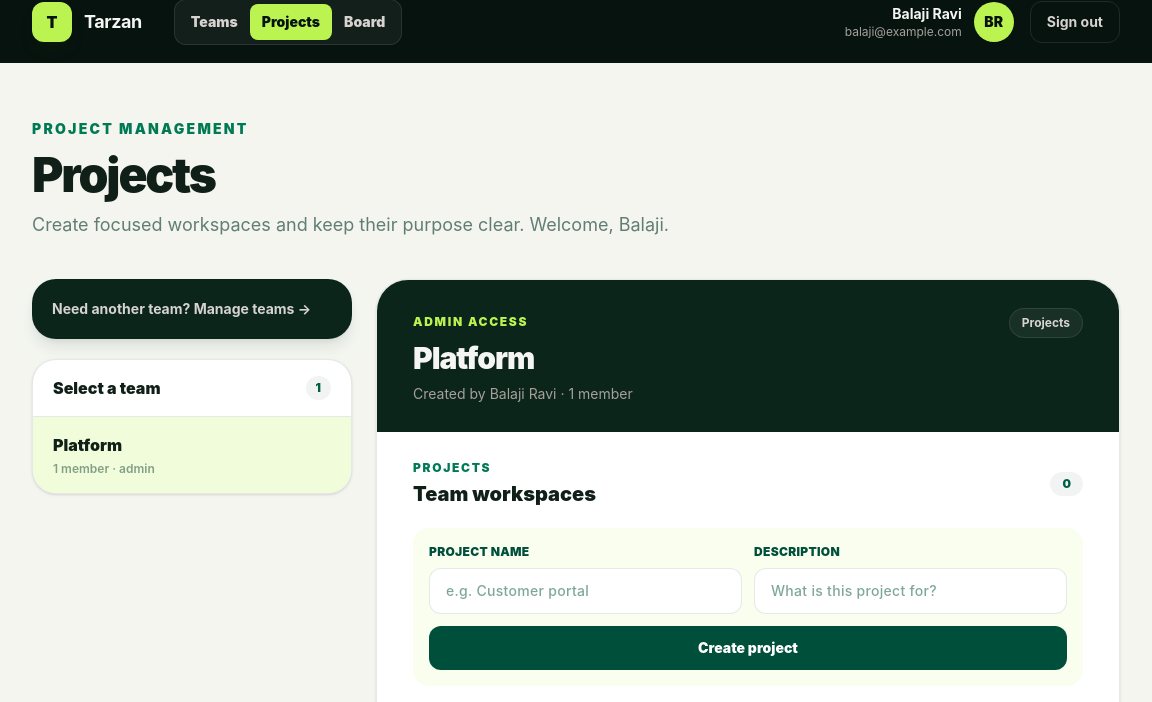
Scenario: authentication flow › creates a project inside an administered team
In the field labelled "Project name": (586, 591) [429, 568, 742, 614], type "Customer portal"
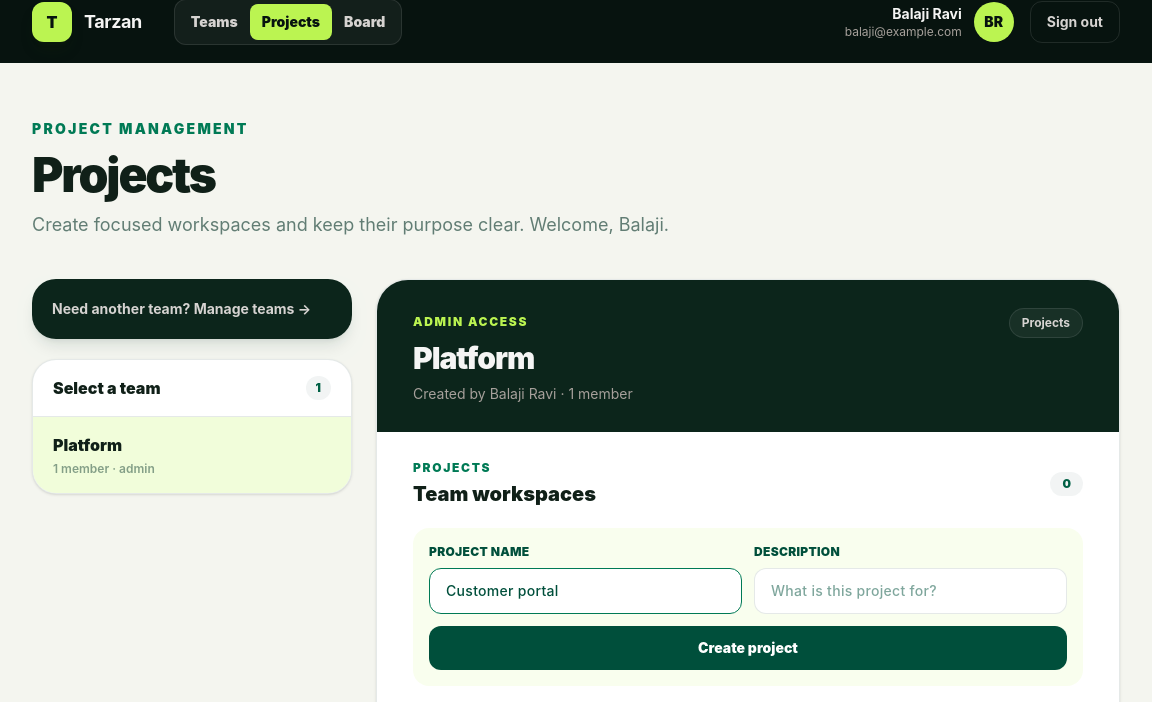
In the field labelled "Description": (910, 591) [754, 568, 1067, 614], type "Customer-facing project"
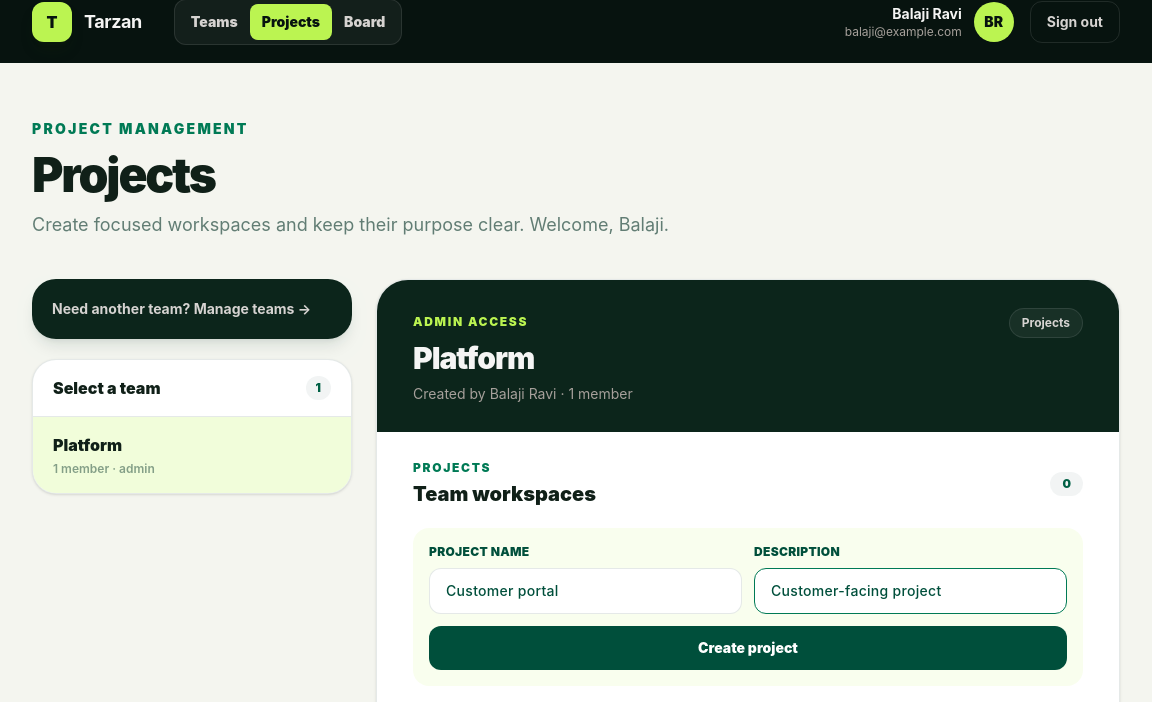
Click the button "Create project": (748, 648) [429, 626, 1067, 670]
(page scrolled)
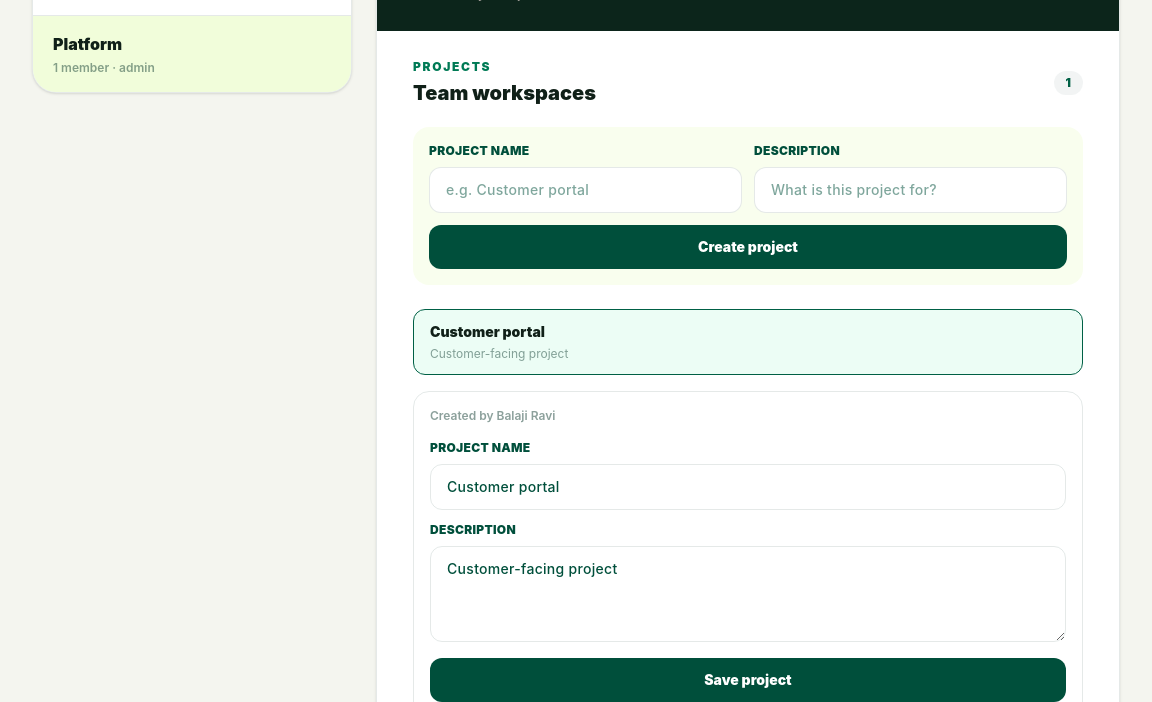
Now the button "Customer portal Customer-facing project" is shown, box [413, 309, 1083, 375]
